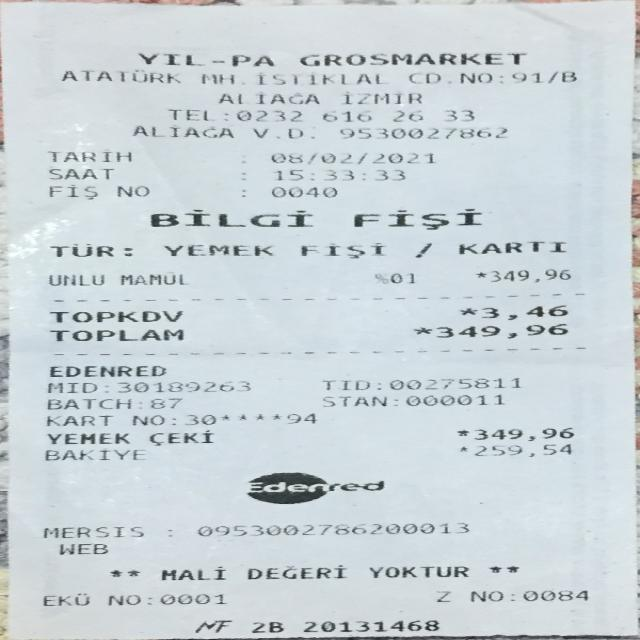text: (195, 521, 467, 535), (150, 204, 308, 228), (298, 50, 520, 65), (353, 206, 479, 228), (338, 124, 504, 140), (257, 68, 393, 86), (60, 66, 177, 85), (269, 151, 432, 164), (386, 375, 517, 390), (113, 378, 248, 392), (47, 327, 180, 341), (300, 618, 436, 631), (162, 242, 271, 258), (456, 240, 562, 256), (216, 89, 318, 105), (39, 522, 140, 538), (366, 562, 466, 578), (433, 323, 565, 335), (242, 480, 382, 491), (47, 309, 181, 320), (270, 168, 402, 179), (130, 124, 232, 138), (242, 564, 344, 578), (298, 240, 380, 257), (46, 364, 162, 376), (42, 447, 140, 461), (340, 89, 425, 104), (472, 442, 568, 455), (472, 427, 570, 439), (47, 149, 130, 163), (45, 430, 128, 444), (478, 305, 565, 318), (488, 267, 568, 281), (403, 393, 502, 404), (49, 242, 111, 259), (158, 564, 223, 580), (44, 397, 129, 409), (158, 591, 223, 606), (136, 51, 200, 66), (147, 429, 211, 444), (118, 271, 186, 285), (252, 124, 311, 140), (47, 166, 111, 180), (231, 108, 303, 120), (268, 185, 334, 198), (44, 413, 110, 426), (320, 393, 384, 406), (46, 271, 101, 285), (520, 588, 584, 600), (44, 378, 94, 393), (320, 376, 368, 391), (40, 591, 86, 606), (46, 184, 95, 198), (197, 68, 236, 85), (320, 107, 365, 121), (229, 51, 270, 66), (189, 617, 230, 632), (56, 542, 104, 554), (368, 272, 416, 284), (402, 71, 443, 85), (167, 107, 207, 121), (115, 183, 147, 198), (106, 591, 136, 606), (250, 618, 282, 632), (511, 70, 543, 84), (550, 68, 576, 85), (468, 588, 502, 601), (458, 71, 492, 84), (444, 107, 474, 121), (129, 412, 159, 426), (184, 411, 214, 425), (284, 410, 314, 424), (147, 396, 179, 409), (396, 107, 417, 121), (497, 68, 511, 86), (458, 304, 473, 320), (234, 68, 248, 85), (433, 589, 447, 601), (211, 51, 221, 66), (451, 428, 467, 437), (412, 324, 423, 337), (121, 242, 129, 258), (172, 411, 180, 425), (236, 154, 247, 164), (471, 271, 486, 278), (165, 521, 171, 538), (236, 172, 248, 180), (458, 443, 464, 456), (375, 376, 380, 391), (391, 393, 396, 406), (102, 378, 106, 393), (145, 591, 149, 606), (238, 185, 242, 198), (136, 396, 140, 409), (507, 588, 511, 601), (223, 107, 226, 121)
